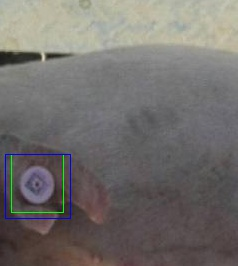text: (11, 154, 63, 212)
